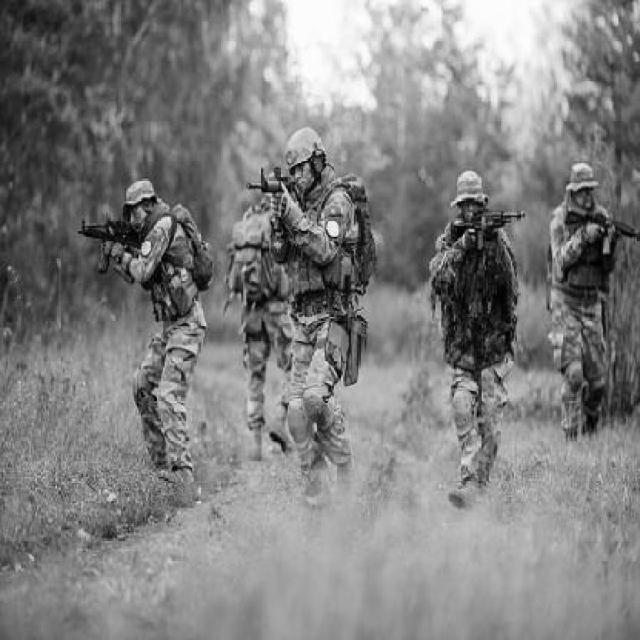Person: (269, 126, 378, 517), (99, 177, 215, 491), (427, 169, 523, 512), (546, 161, 623, 447)
